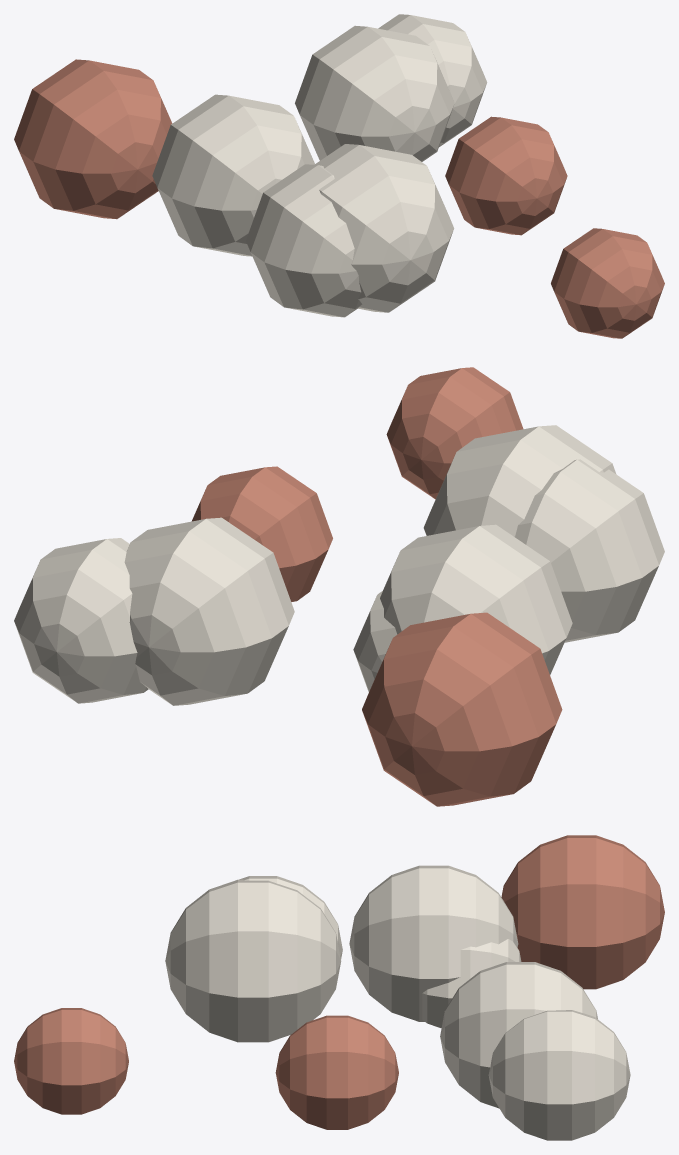
File: mdl_rocks_pebbles_set_001.glb
3 renders of one model, top to bottom at view 1: azimuth 30°, elevation 25°; view 2: azimuth 150°, elevation 25°; view 3: azimuth 270°, elevation 25°, orthographic. The views are drawn at different scales.
Parts seen in each view (by area): view 1: m_caliza, m_tierra_roja; view 2: m_caliza, m_tierra_roja; view 3: m_caliza, m_tierra_roja.
Boxes of the visible parts, left/top/right/bottom form: m_caliza: left=152, top=14, right=487, bottom=317; m_tierra_roja: left=14, top=59, right=664, bottom=338; m_caliza: left=14, top=425, right=664, bottom=705; m_tierra_roja: left=191, top=367, right=562, bottom=806; m_caliza: left=165, top=865, right=630, bottom=1140; m_tierra_roja: left=14, top=835, right=664, bottom=1129.
Bounding box in the file's own units: 0.6575 × 0.2226 × 0.8364.
